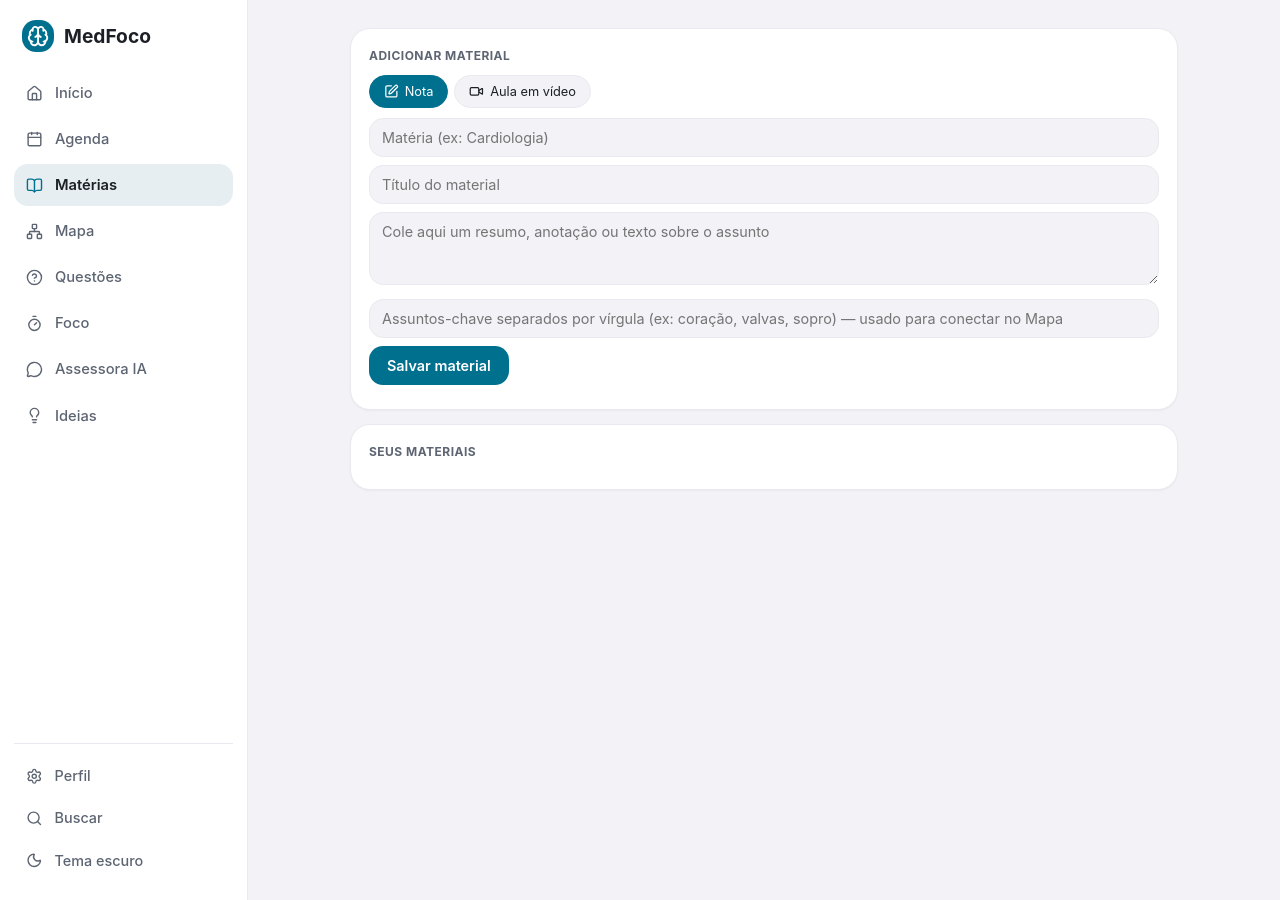
Scenario: Matérias › formulário › recusa link com usuário e senha, explicando o motivo
Click the button "Aula em vídeo": [523, 92] box [454,75,591,108]
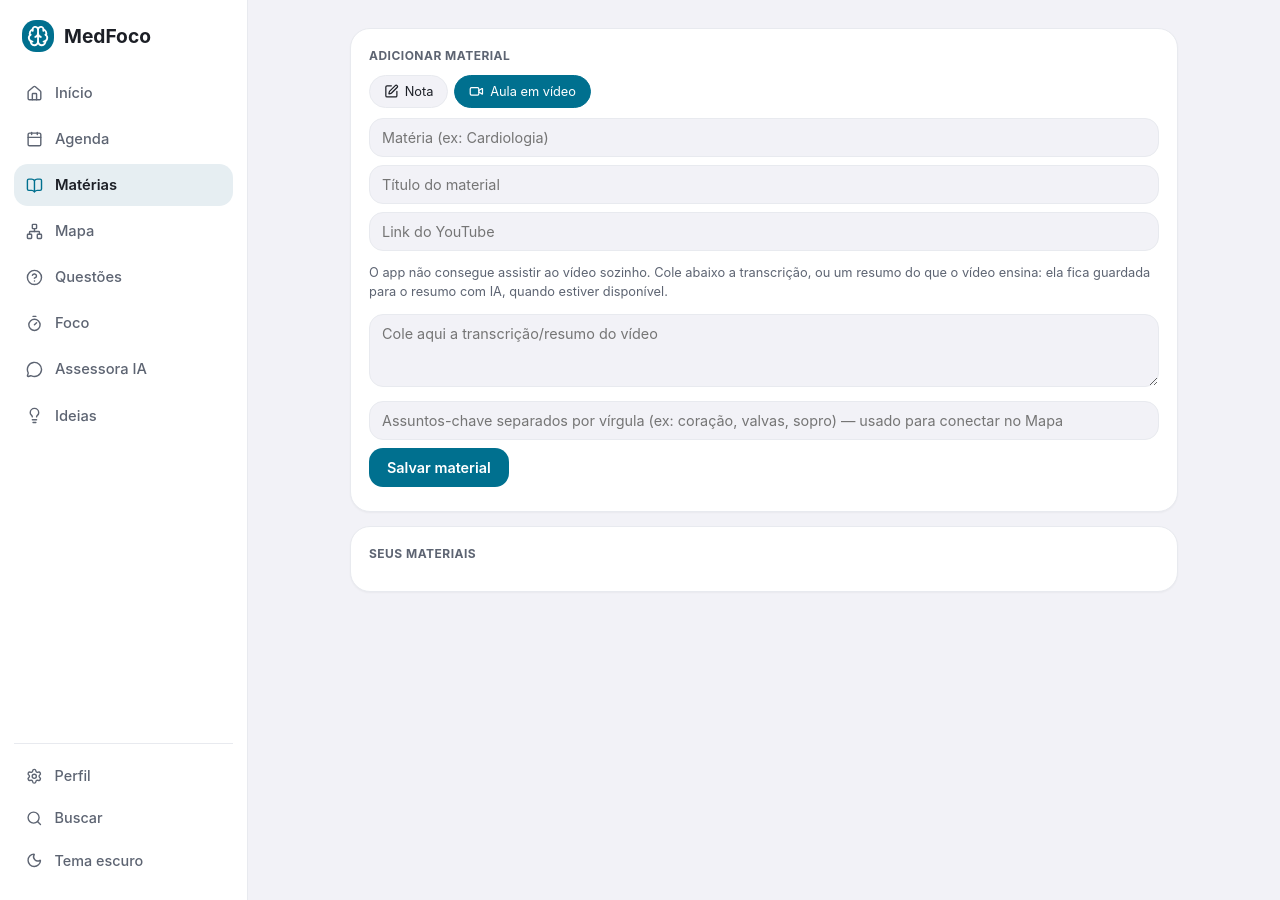
In the field labelled "Título do material": [764, 184] box [369,165,1159,204], type "Aula"
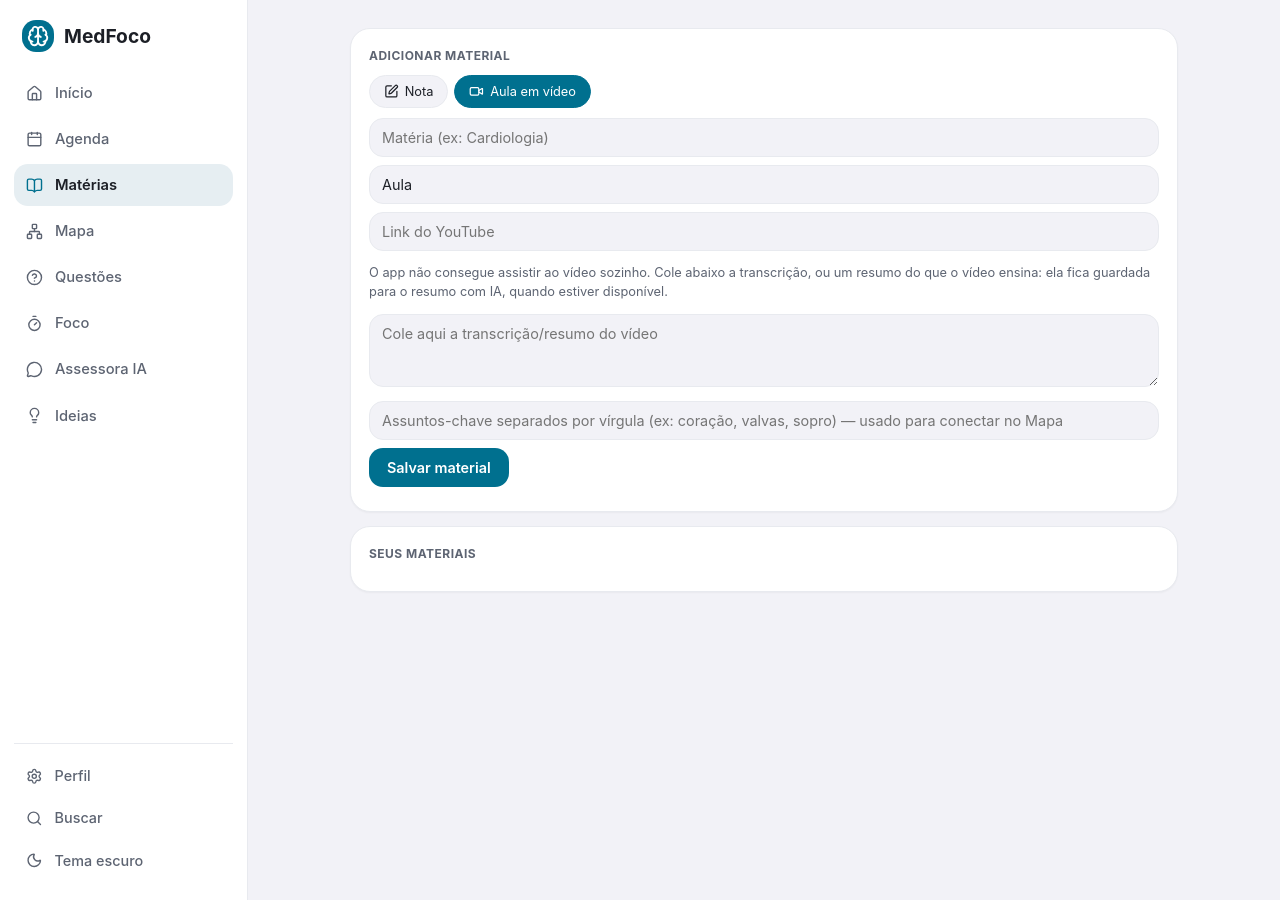
In the field named "Link do vídeo": [764, 232] box [369,212,1159,251], type "https://usuario:senha@site.com/v"
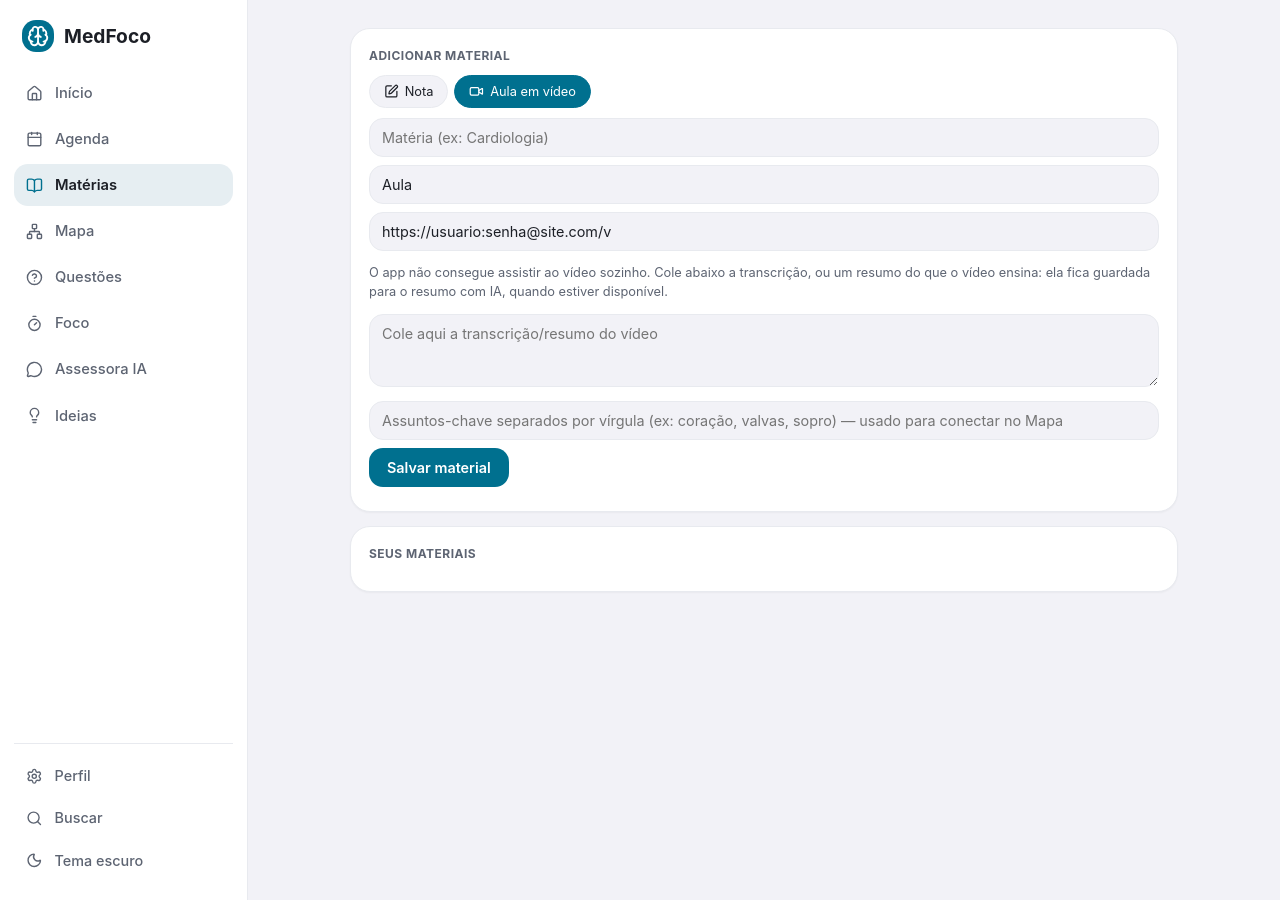
Click the button "Salvar material": [439, 468] box [369,448,509,487]
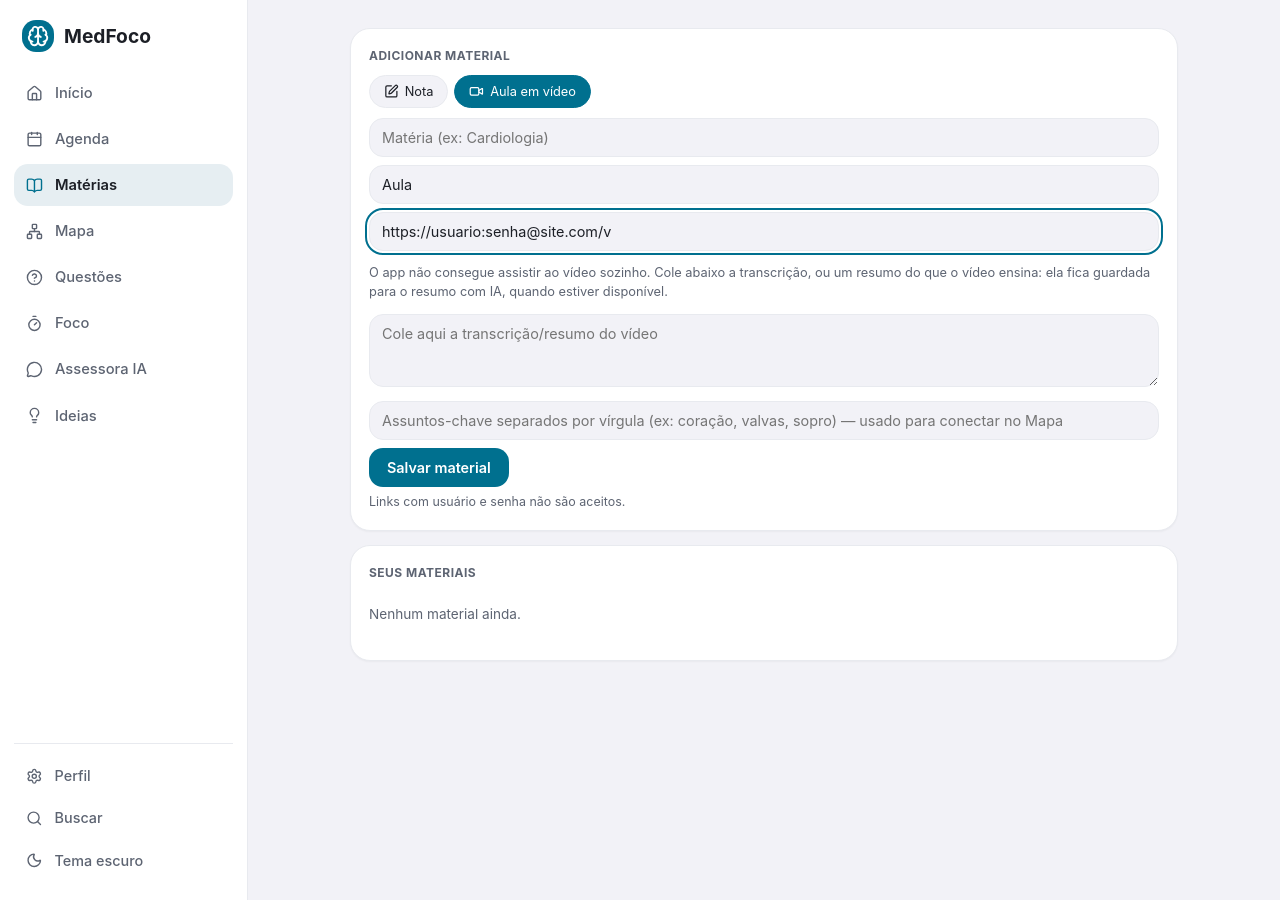
Expected: the text "Links com usuário e senha não são aceitos." is shown, [369,494,625,509]
